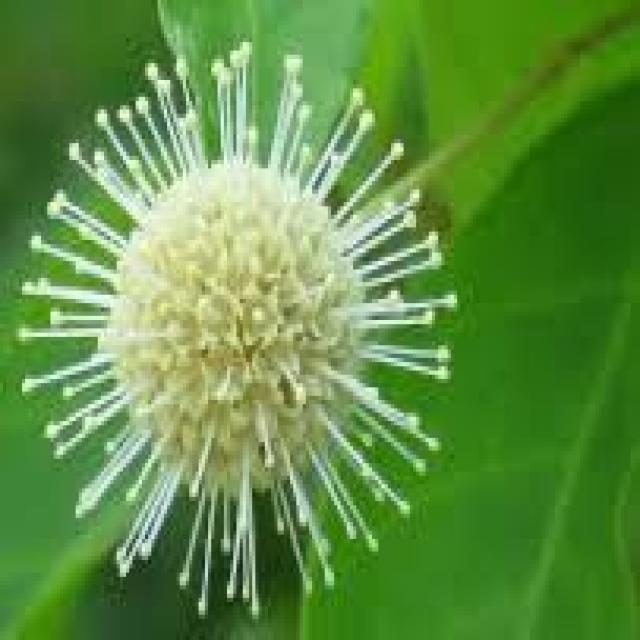organic waste: (14, 48, 459, 612)
